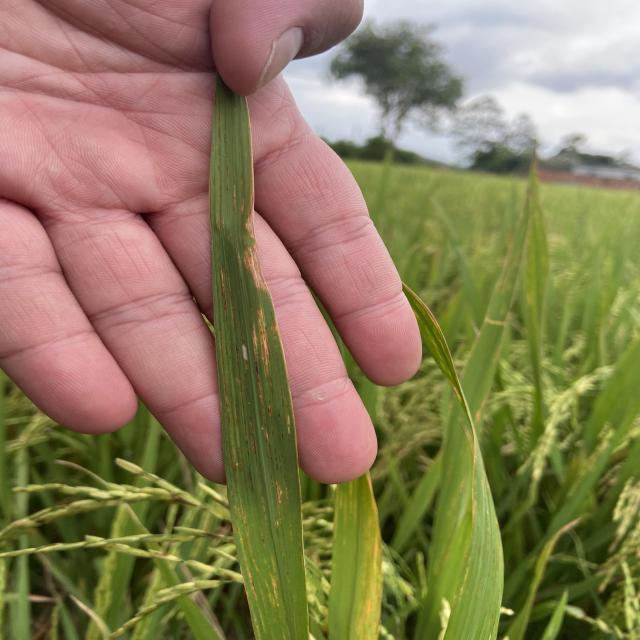Dom soc vi khuan: (250, 322, 270, 443), (256, 309, 270, 368), (245, 568, 258, 601), (220, 263, 228, 315), (248, 418, 257, 456), (240, 339, 248, 372), (239, 174, 244, 216), (275, 480, 283, 504), (232, 185, 237, 214)
